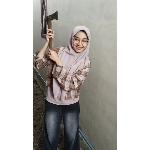Kapak: (44, 10, 60, 58)
